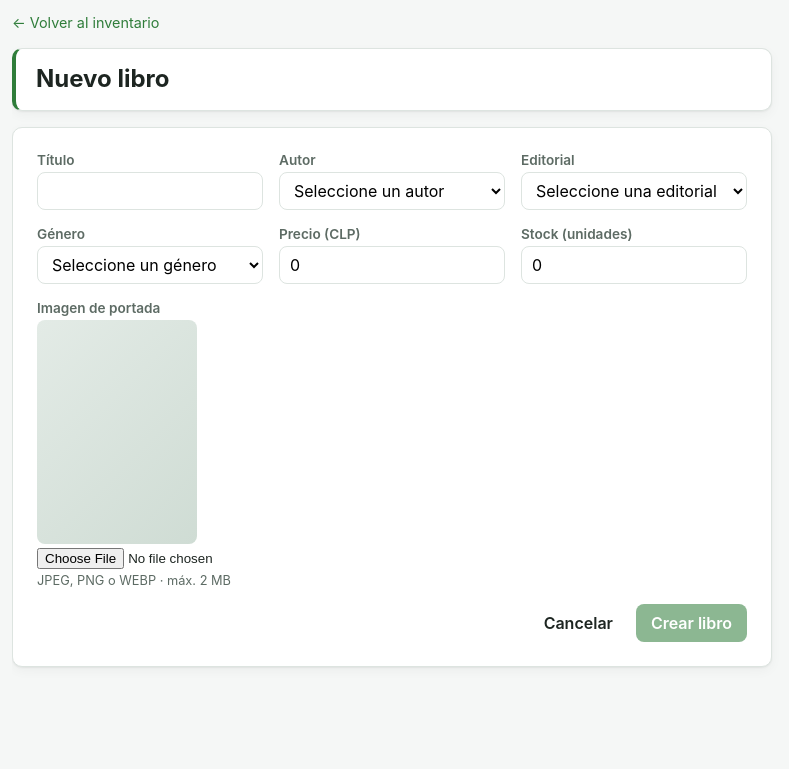
Scenario: BookCreatePage › explains that the book already exists when the API answers 409
In the field labelled "Título": (150, 191) [37,172,263,210], type "Rayuela"
Select "Julio Cortázar" in the dropdown labelled "Autor": (392, 191) [279,172,505,210]
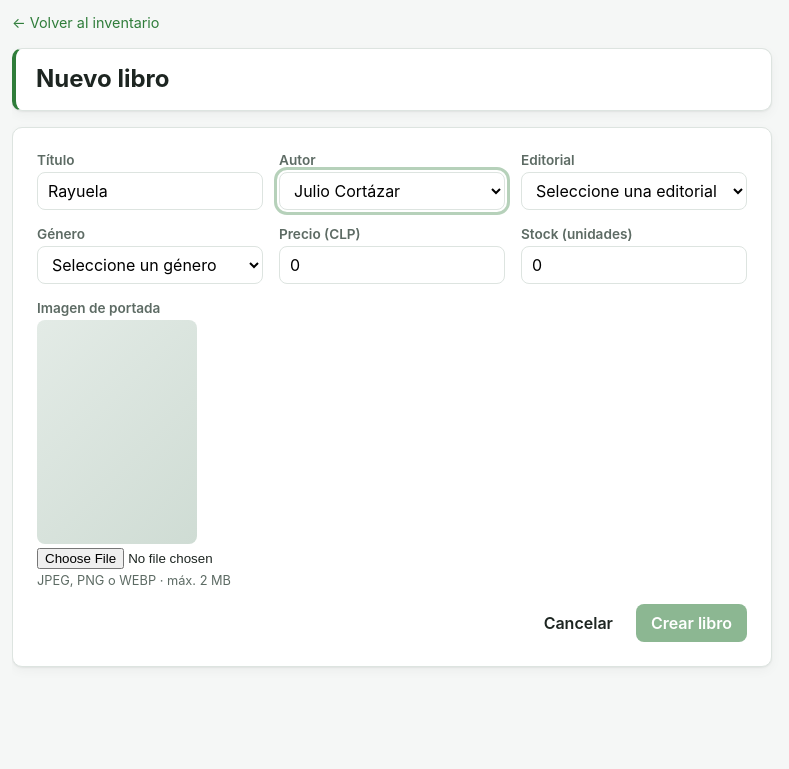
Select "Sudamericana" in the dropdown labelled "Editorial": (634, 191) [521,172,747,210]
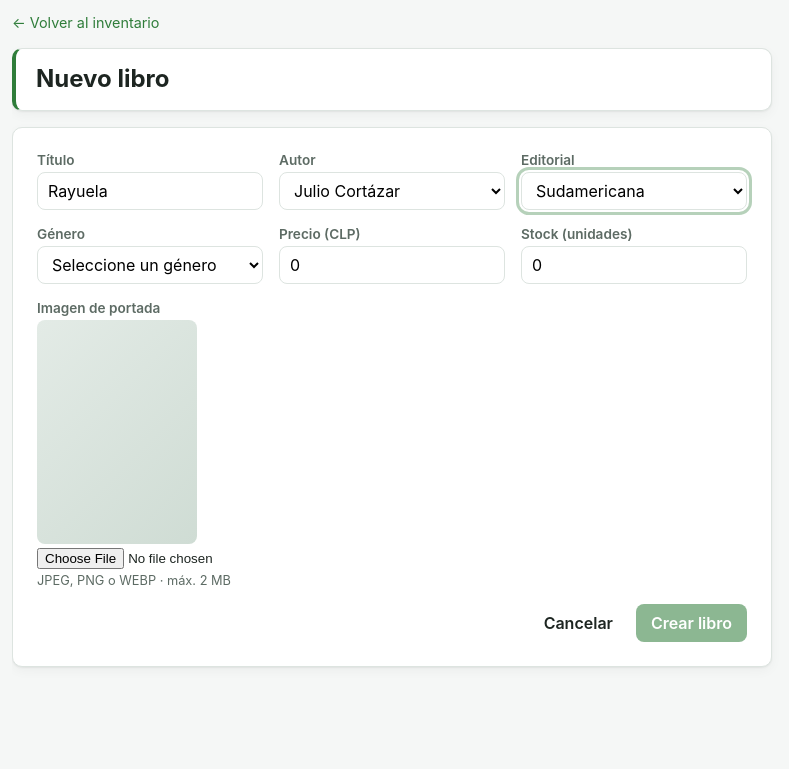
Select "Novela" in the dropdown labelled "Género": (150, 265) [37,246,263,284]
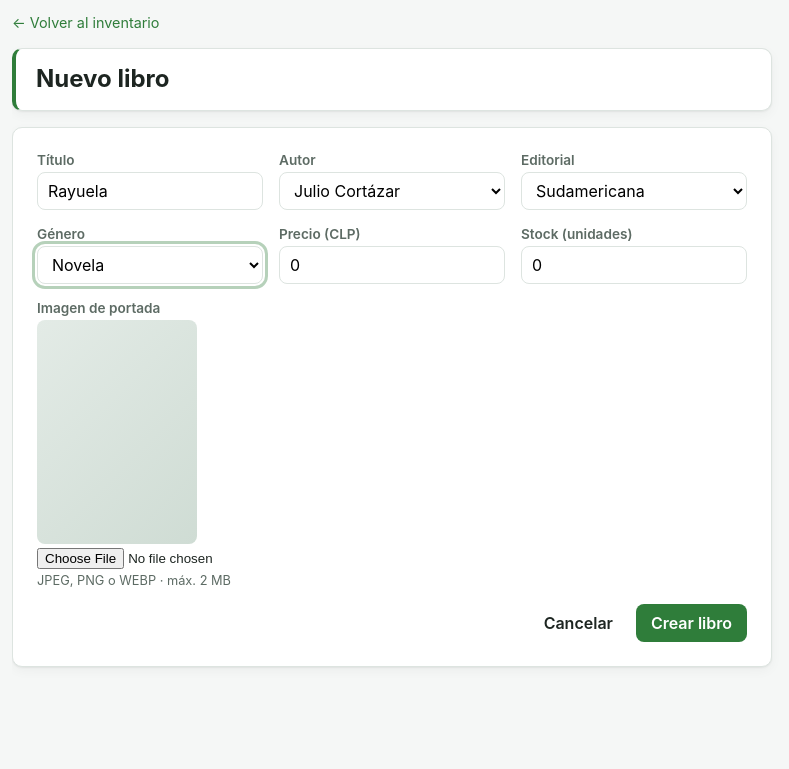
In the number field labelled "Precio (CLP)": (392, 265) [279,246,505,284], type "5"
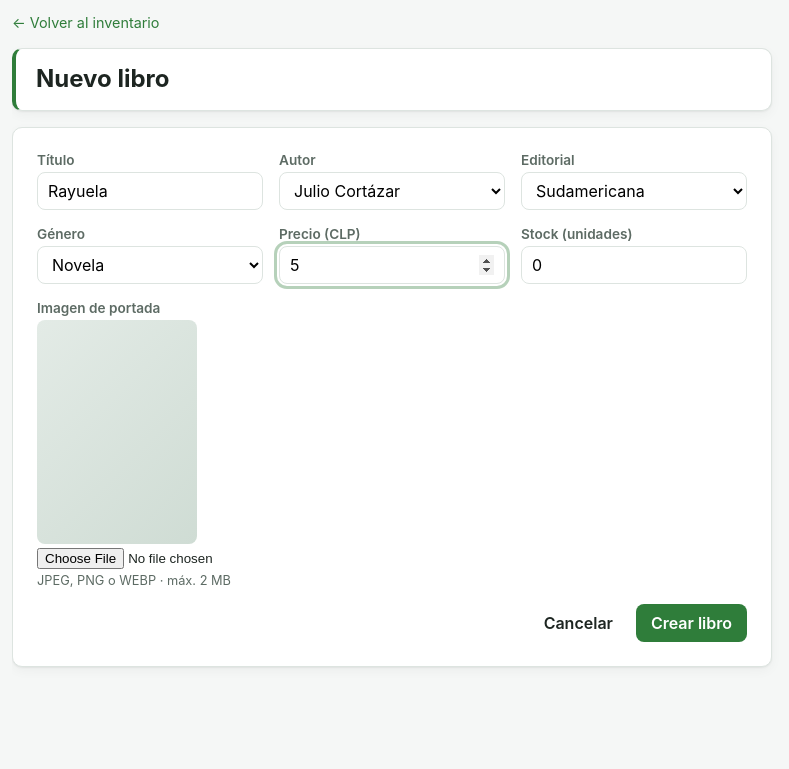
In the number field labelled "Stock (unidades)": (634, 265) [521,246,747,284], type "2"
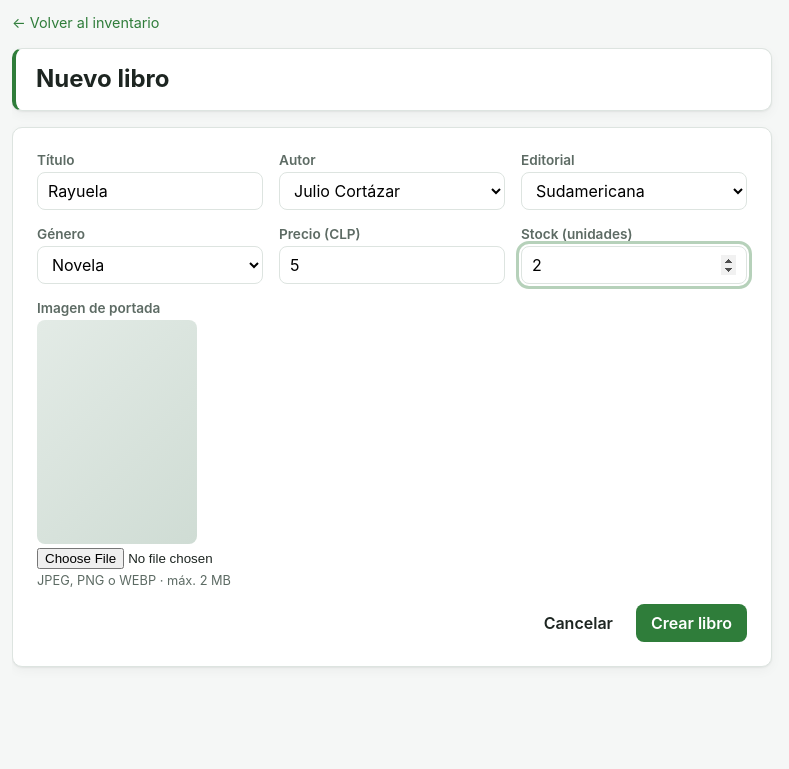
Expected: the button "Crear libro" is enabled
Click the button "Crear libro": (691, 623) [636,604,747,642]
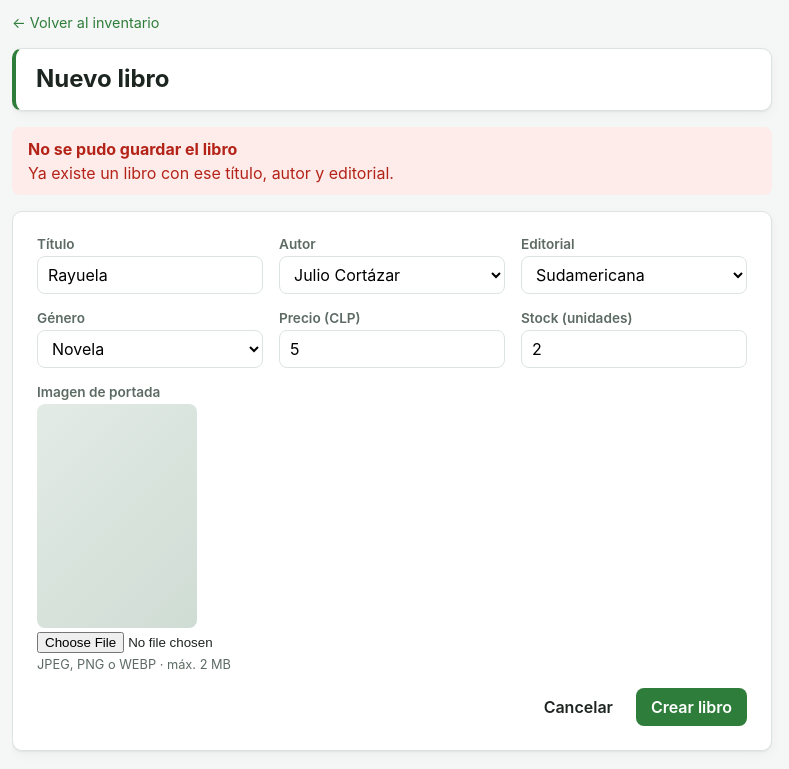
Expected: the text "Ya existe un libro con ese título, autor y editorial." is shown, [28,163,394,183]
